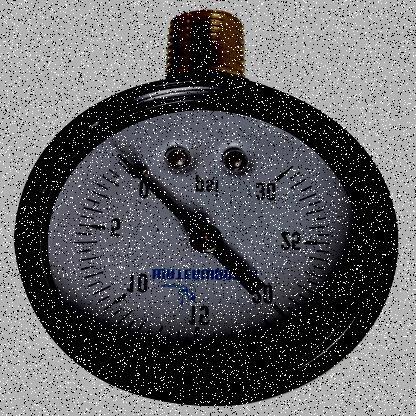needle: (115, 151, 203, 235)
